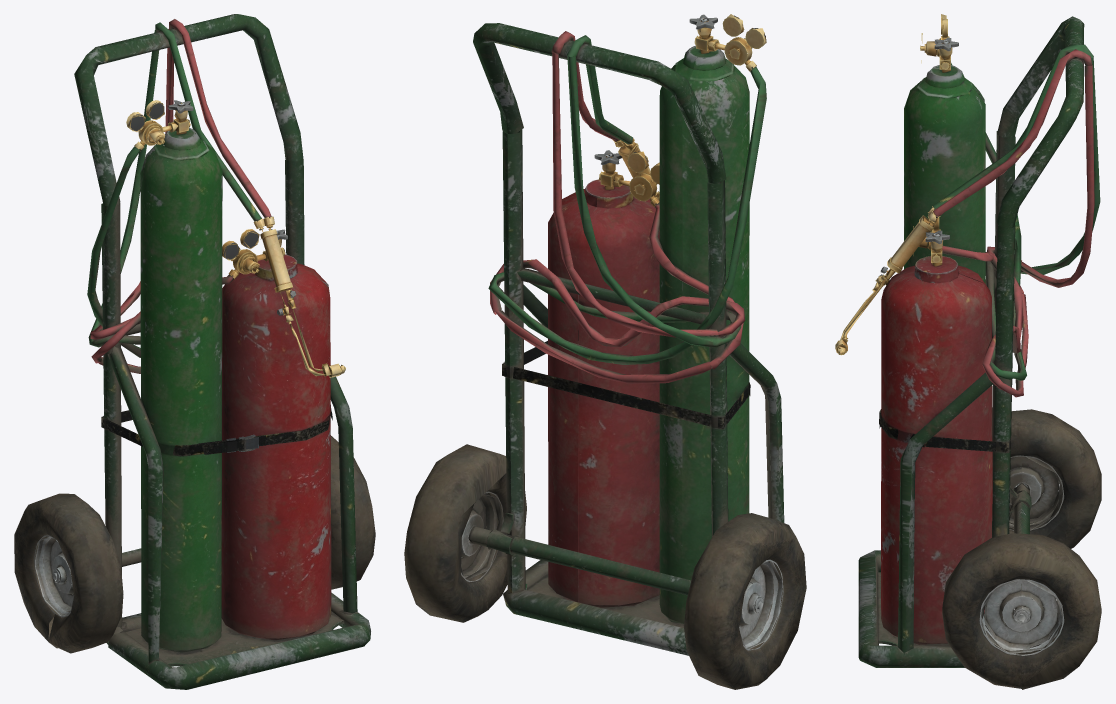
Rendered from portable_welding_cart_game.gltf.
3 views of the same model, side by side, from view 1: azimuth 30°, elevation 25°; view 2: azimuth 150°, elevation 25°; view 3: azimuth 270°, elevation 25° (orthographic). The views are drawn at different scales.
Visible parts, largest first — view 1: portable_welding_cart; view 2: portable_welding_cart; view 3: portable_welding_cart.
Boxes of the visible parts, <box> form: portable_welding_cart: <box>14,14,375,689</box>; portable_welding_cart: <box>404,14,806,689</box>; portable_welding_cart: <box>835,14,1101,689</box>.
Size of the model in its own units: 0.8375 by 1.56 by 0.6552.
Materials: 2 (2 with a texture image).
